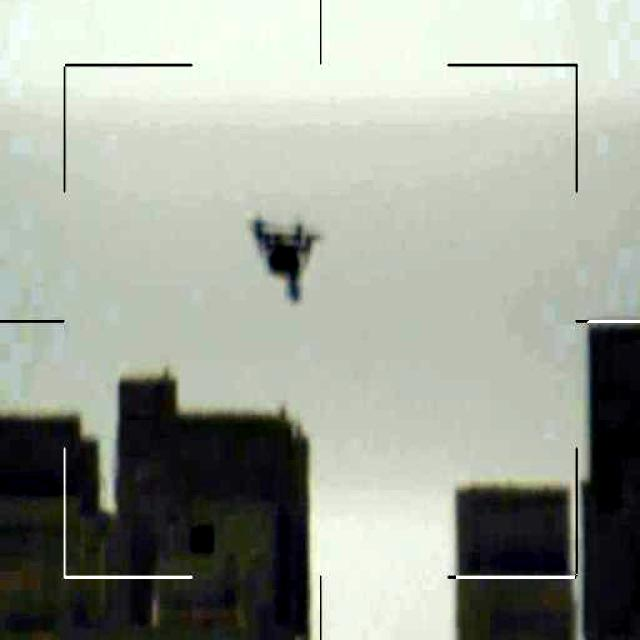bird: (249, 210, 328, 299)
